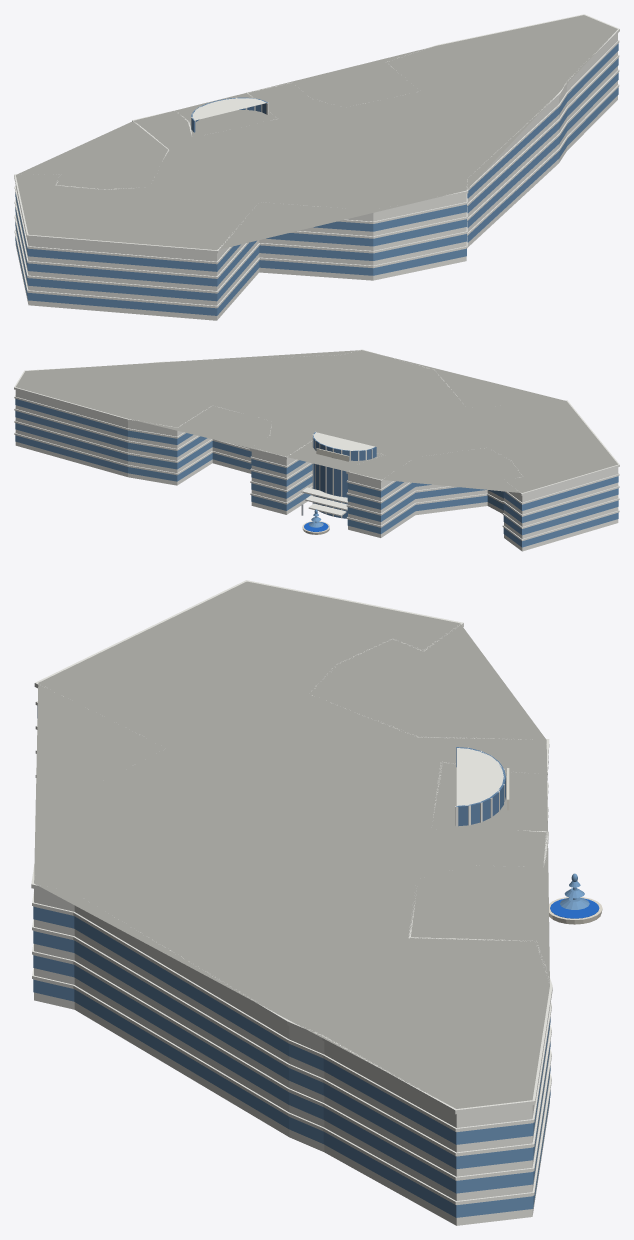
The model's file is env_lm3_pavilion.fbx.
The picture shows the model from 3 angles, top to bottom: view 1: azimuth 30°, elevation 25°; view 2: azimuth 150°, elevation 25°; view 3: azimuth 270°, elevation 25°; orthographic projection. The views are drawn at different scales.
Visible parts, largest first — view 1: env_lm3_pavilion_geo_LOD0; view 2: env_lm3_pavilion_geo_LOD0; view 3: env_lm3_pavilion_geo_LOD0.
Part boxes in pixels (x1,y1,x2,y2): env_lm3_pavilion_geo_LOD0: (14, 14, 619, 320); env_lm3_pavilion_geo_LOD0: (14, 349, 619, 551); env_lm3_pavilion_geo_LOD0: (31, 580, 602, 1225).
Size of what is drawn, in the model's own units: 234 by 28 by 106.
